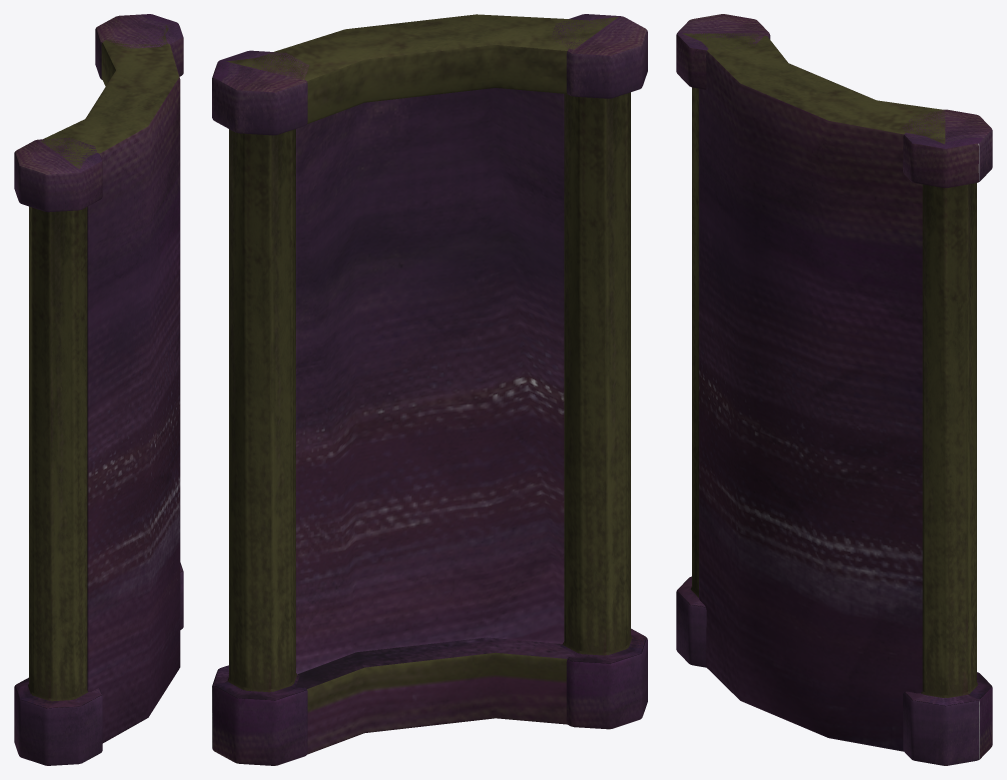
File: MANOR_CORNER_001.obj
3 renders of one model, left to right at view 1: azimuth 30°, elevation 25°; view 2: azimuth 150°, elevation 25°; view 3: azimuth 270°, elevation 25°, orthographic. The views are drawn at different scales.
Parts seen in each view (by area): view 1: MANOR_CORNER_001; view 2: MANOR_CORNER_001; view 3: MANOR_CORNER_001.
Part boxes in pixels (x1,y1,x2,y2): MANOR_CORNER_001: (14,14,183,765); MANOR_CORNER_001: (212,14,647,765); MANOR_CORNER_001: (676,14,992,765).
Size of the model in its own units: 1.41 by 3 by 1.39.
